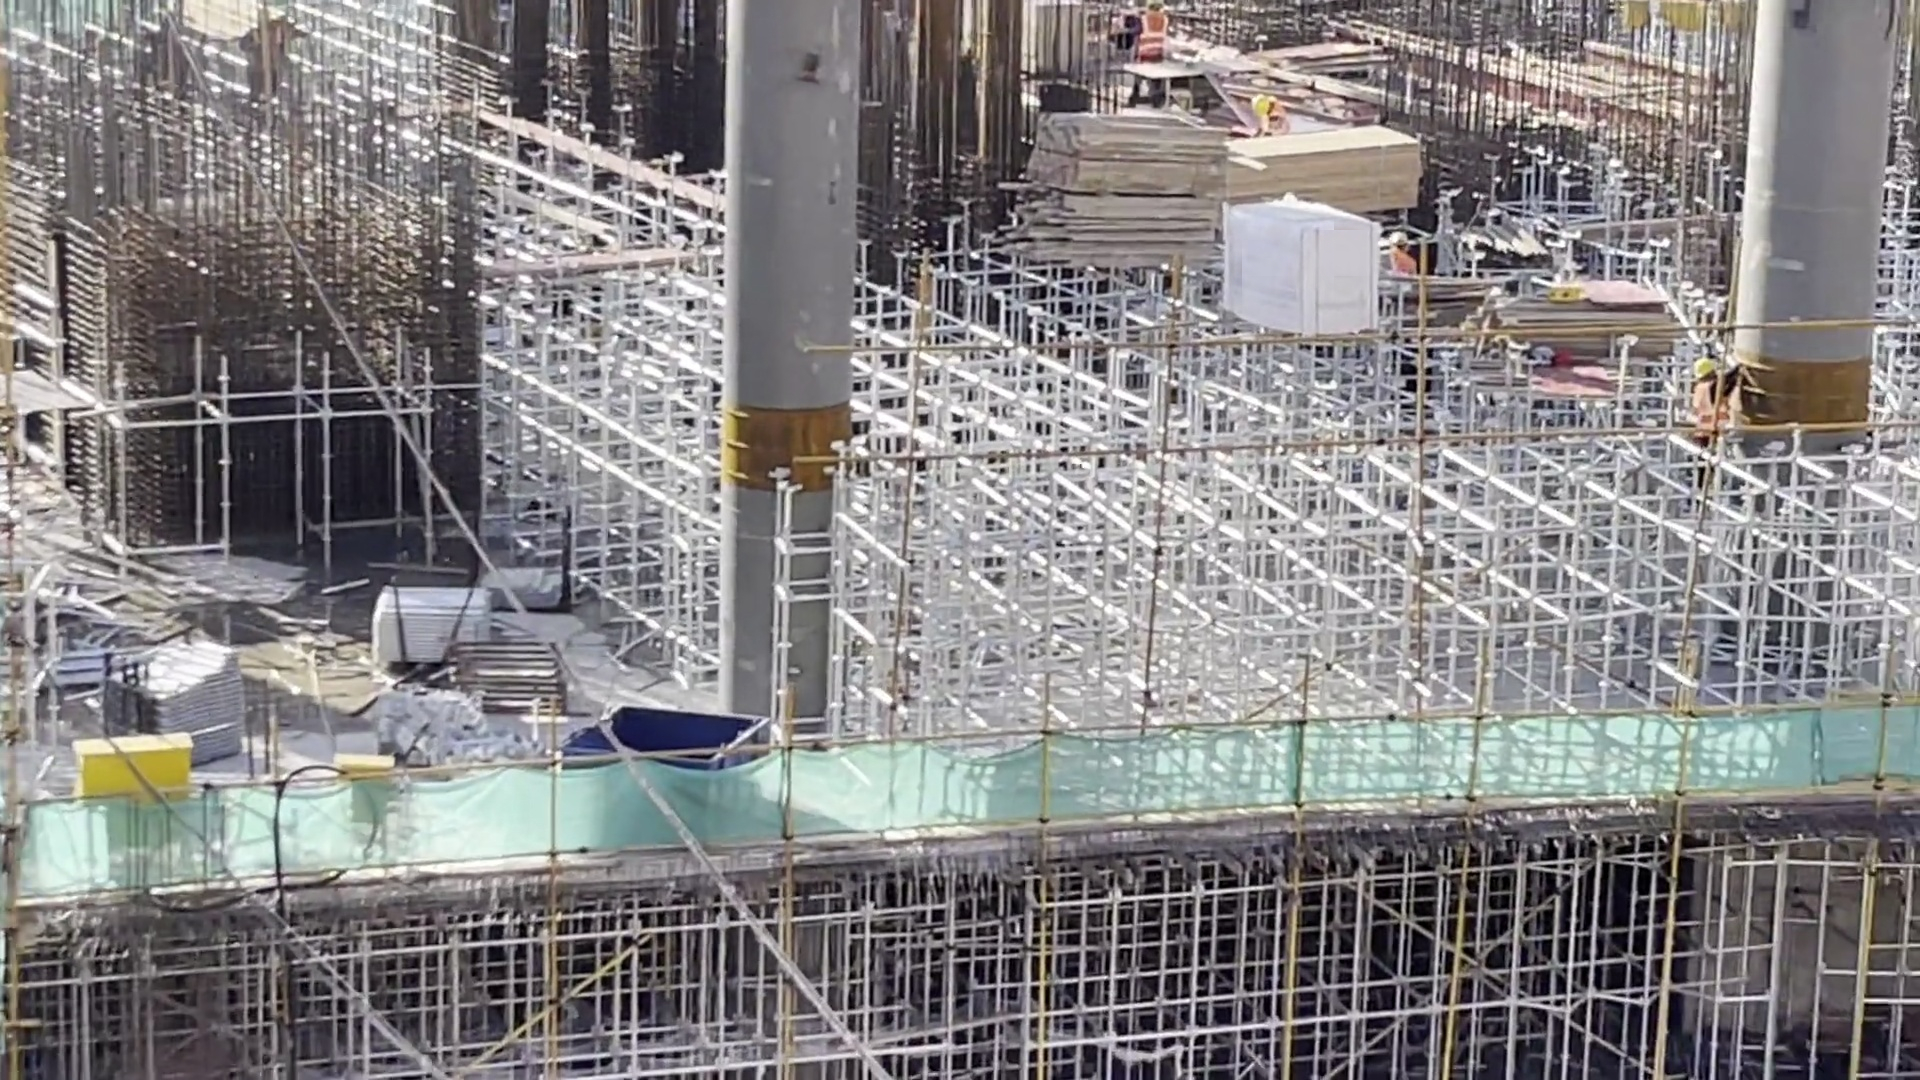board: (1490, 275, 1691, 365)
ebox: (69, 730, 204, 786)
helmet: (1693, 358, 1718, 381), (1249, 94, 1270, 118), (1389, 233, 1408, 245)
hopper: (554, 698, 770, 753)
person: (1681, 356, 1746, 443), (1119, 1, 1166, 109), (1250, 93, 1290, 139), (1387, 231, 1420, 278)
scaffold: (370, 585, 489, 674)
vest: (1694, 381, 1732, 436), (1138, 10, 1165, 60), (1391, 250, 1416, 276)
wood: (1004, 106, 1225, 289), (1226, 116, 1426, 209)
